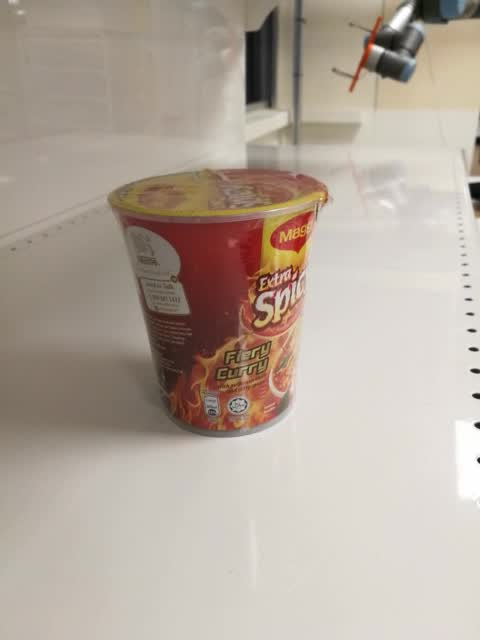maggi: (105, 167, 331, 438)
